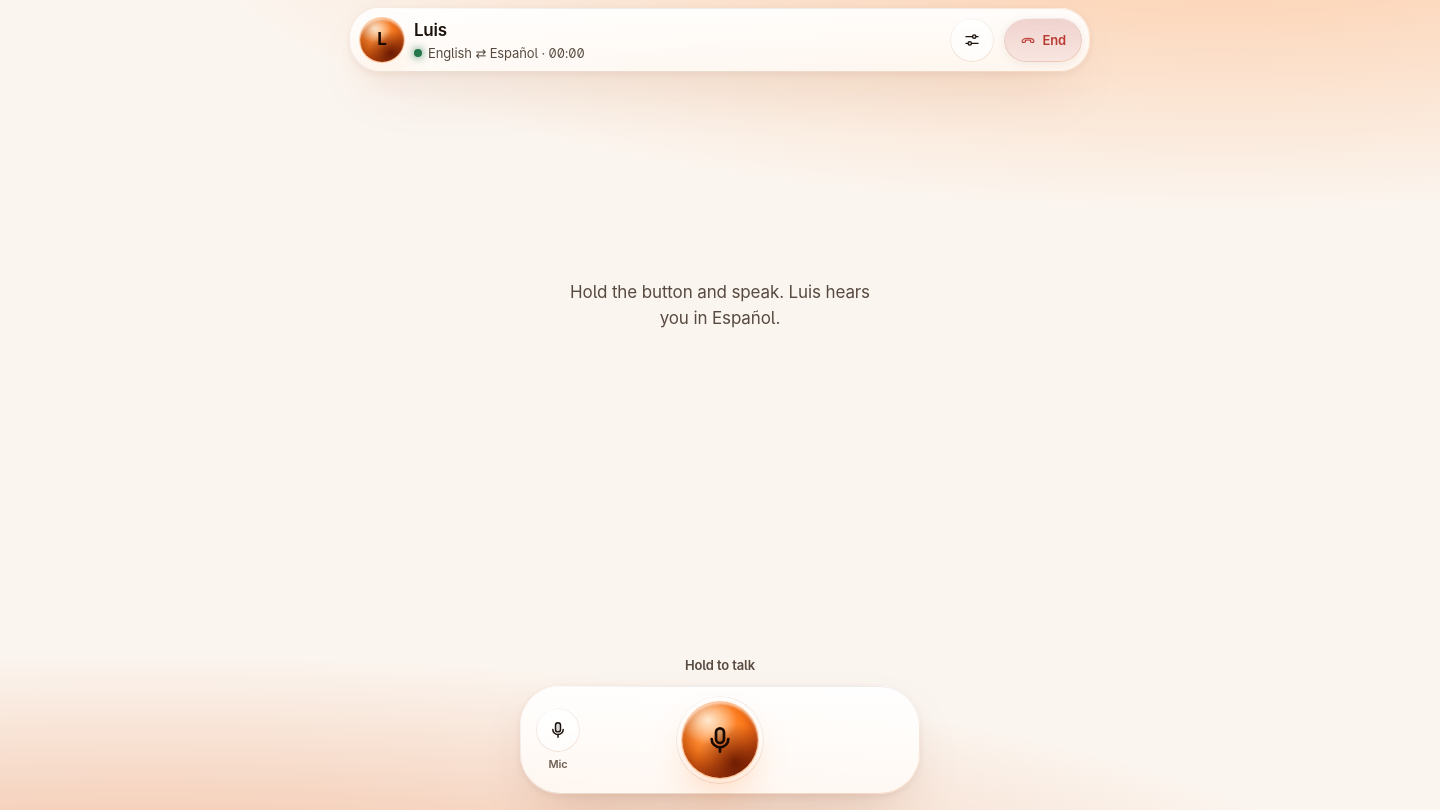
Test case: Phase 4 conversation affordances › speech that arrives while we talk shows a waiting chip and plays after release
Step 1. Press the mouse on the button named "Push to talk" → (720, 740), box x1=676 y1=696 x2=764 y2=784
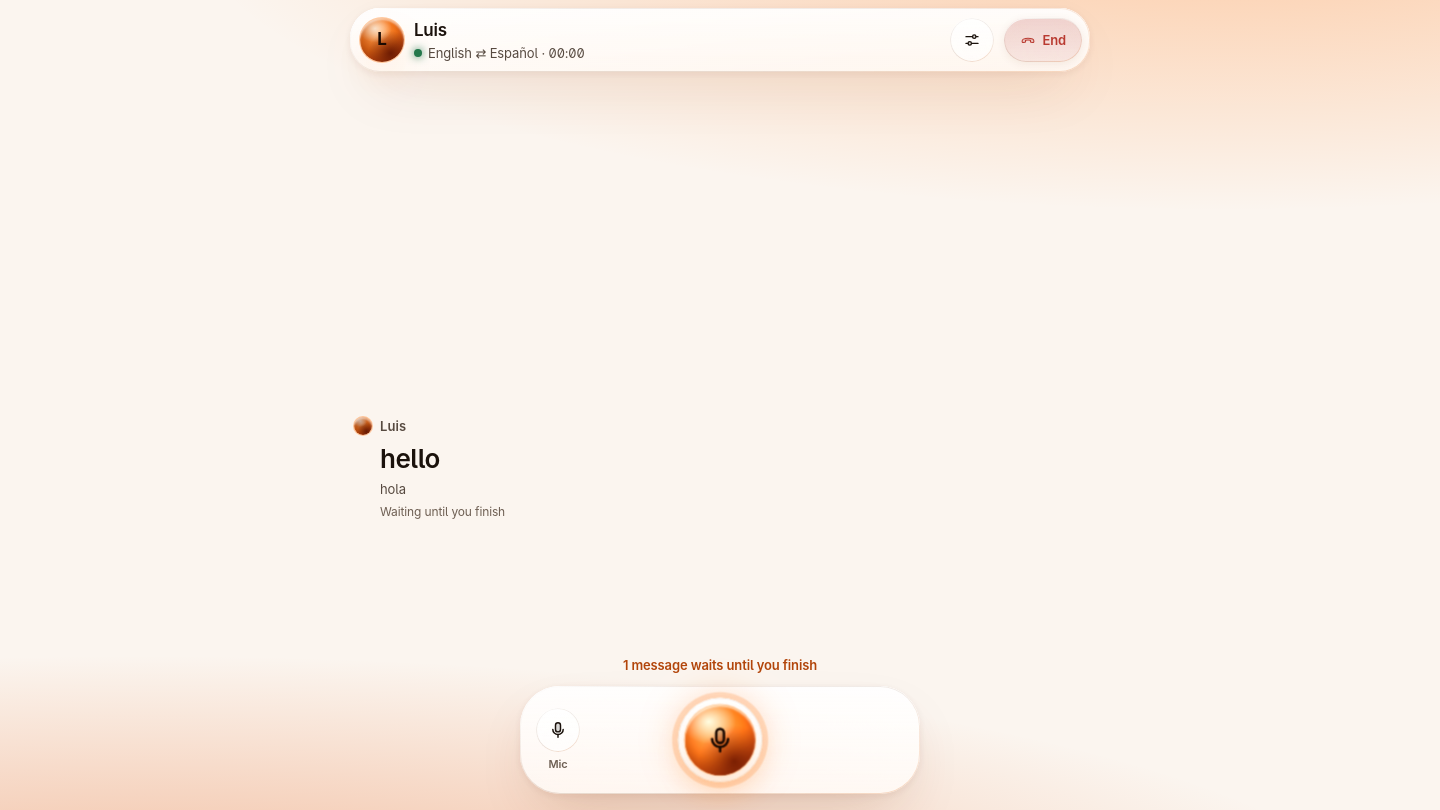
Now the text "1 message waits until you finish" is shown, box x1=623 y1=657 x2=817 y2=673
